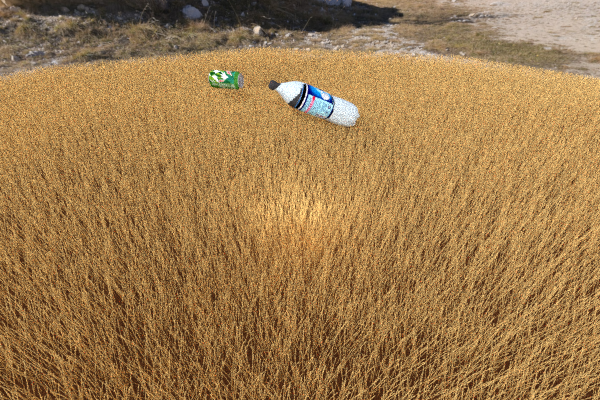bottle: (268, 80, 359, 127)
can: (208, 69, 243, 89), (195, 58, 226, 79)
